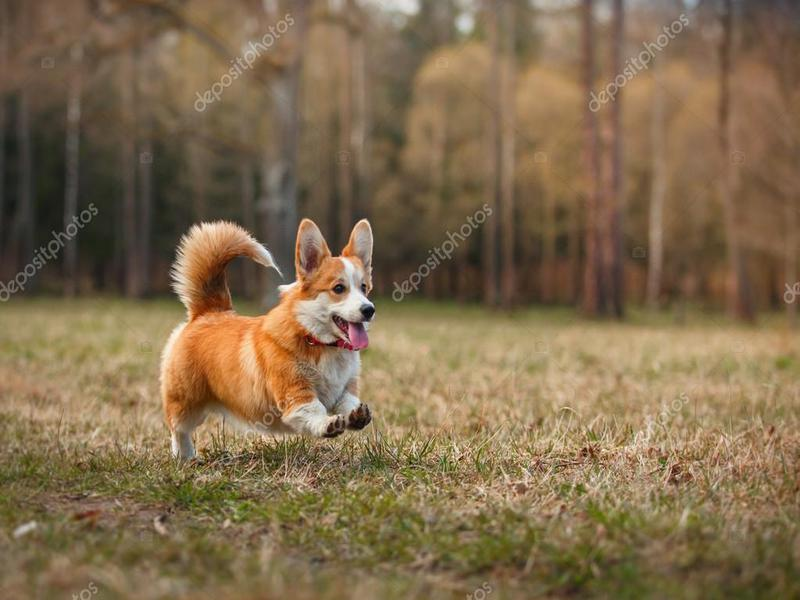corgi: (290, 216, 385, 357)
